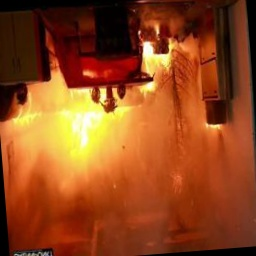fire: (0, 35, 215, 211)
